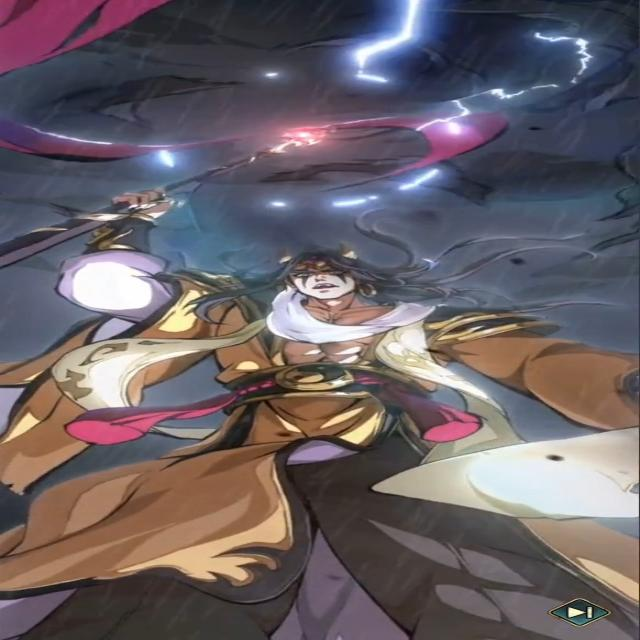system-skip: (545, 594, 615, 629)
